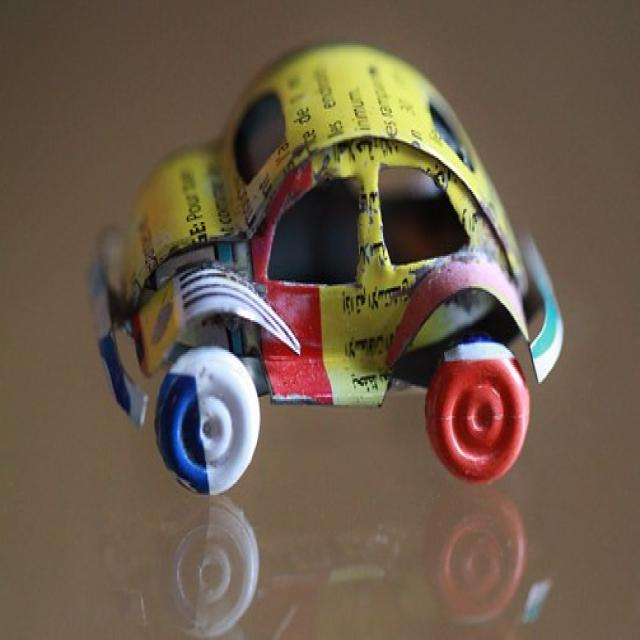Car: (88, 38, 565, 497)
